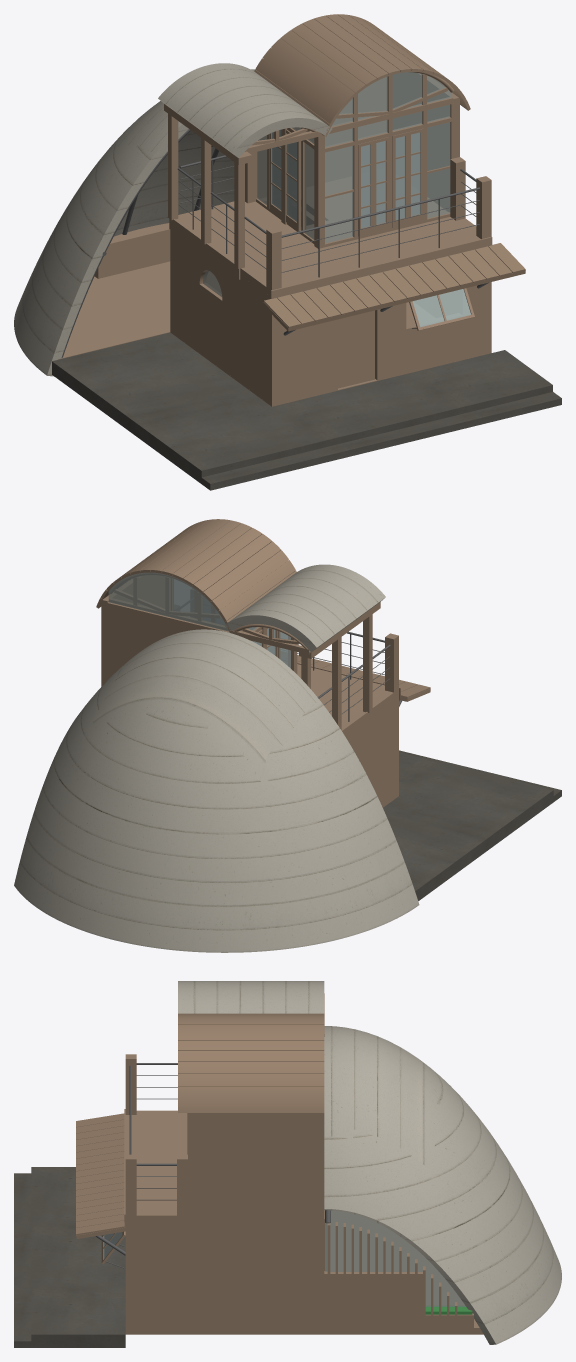
File: student-work-03.glb
3 renders of one model, top to bottom at view 1: azimuth 30°, elevation 25°; view 2: azimuth 150°, elevation 25°; view 3: azimuth 270°, elevation 25°, orthographic. The views are drawn at different scales.
Parts seen in each view (by area): view 1: Concrete Landing (front + west to living space), Living Area Dome (white render, peak 5300), GF South Wall, GF West Wall, First Floor Bay Roof (shallow segmental white vault), Ground Floor Slab (incl. living area under dome), Balcony Deck (south), Loft South Glazing / Door Panes, Concrete Step (front), Side Balcony Deck (under white vault), Loft East Wall, Loft North Wall (lower) (+36 smaller); view 2: Living Area Dome (white render, peak 5300), Concrete Landing (front + west to living space), First Floor Bay Roof (shallow segmental white vault), Loft North Arched Transom Glazing, Loft North Wall (lower), GF West Wall, Balcony Deck (south), Loft East Wall, Roof Plank 02, Roof Plank 03, Roof Plank 04, Roof Plank 05 (+10 smaller); view 3: Living Area Dome (white render, peak 5300), GF East Wall South, Loft East Wall, Concrete Landing (front + west to living space), Ground Floor Slab (incl. living area under dome), Balcony Deck (south), GF East Wall North (low pantry wall), First Floor Bay Roof (shallow segmental white vault), Glazing behind East Louvres, Concrete Step (front), Roof Plank 14, Roof Plank 15 (+14 smaller).
Boxes of the visible parts, x1,y1,x2,y2 form: Concrete Landing (front + west to living space): (52,332,552,483); Living Area Dome (white render, peak 5300): (14,69,255,376); GF South Wall: (268,282,491,405); GF West Wall: (170,230,268,402); First Floor Bay Roof (shallow segmental white vault): (158,63,332,157); Ground Floor Slab (incl. living area under dome): (57,223,491,406); Balcony Deck (south): (240,217,480,296); Loft South Glazing / Door Panes: (325,104,450,243); Concrete Step (front): (201,392,561,490); Side Balcony Deck (under white vault): (175,201,317,266); Loft East Wall: (393,72,459,211); Loft North Wall (lower): (259,77,386,198); Living Area Dome (white render, peak 5300): (14,629,419,952); Concrete Landing (front + west to living space): (383,752,553,900); First Floor Bay Roof (shallow segmental white vault): (224,564,385,652); Loft North Arched Transom Glazing: (108,572,228,631); Loft North Wall (lower): (107,602,229,679); GF West Wall: (347,698,395,807); Balcony Deck (south): (297,664,398,715); Loft East Wall: (101,575,164,686); Roof Plank 02: (219,560,295,621); Roof Plank 03: (211,550,288,610); Roof Plank 04: (202,541,280,600); Roof Plank 05: (193,534,271,592); Living Area Dome (white render, peak 5300): (324,1026,561,1344); GF East Wall South: (133,1222,324,1327); Loft East Wall: (188,1113,324,1215); Concrete Landing (front + west to living space): (31,1167,125,1347); Ground Floor Slab (incl. living area under dome): (125,1211,483,1334); Balcony Deck (south): (125,1110,187,1222); GF East Wall North (low pantry wall): (324,1271,423,1327); First Floor Bay Roof (shallow segmental white vault): (178,981,324,1013); Glazing behind East Louvres: (325,1210,465,1306); Concrete Step (front): (14,1173,31,1347); Roof Plank 14: (178,1074,324,1086); Roof Plank 15: (178,1087,324,1099).
Size of the model in its own units: 14.83 by 11.75 by 20.17.
Materials: 10 (2 with a texture image).
